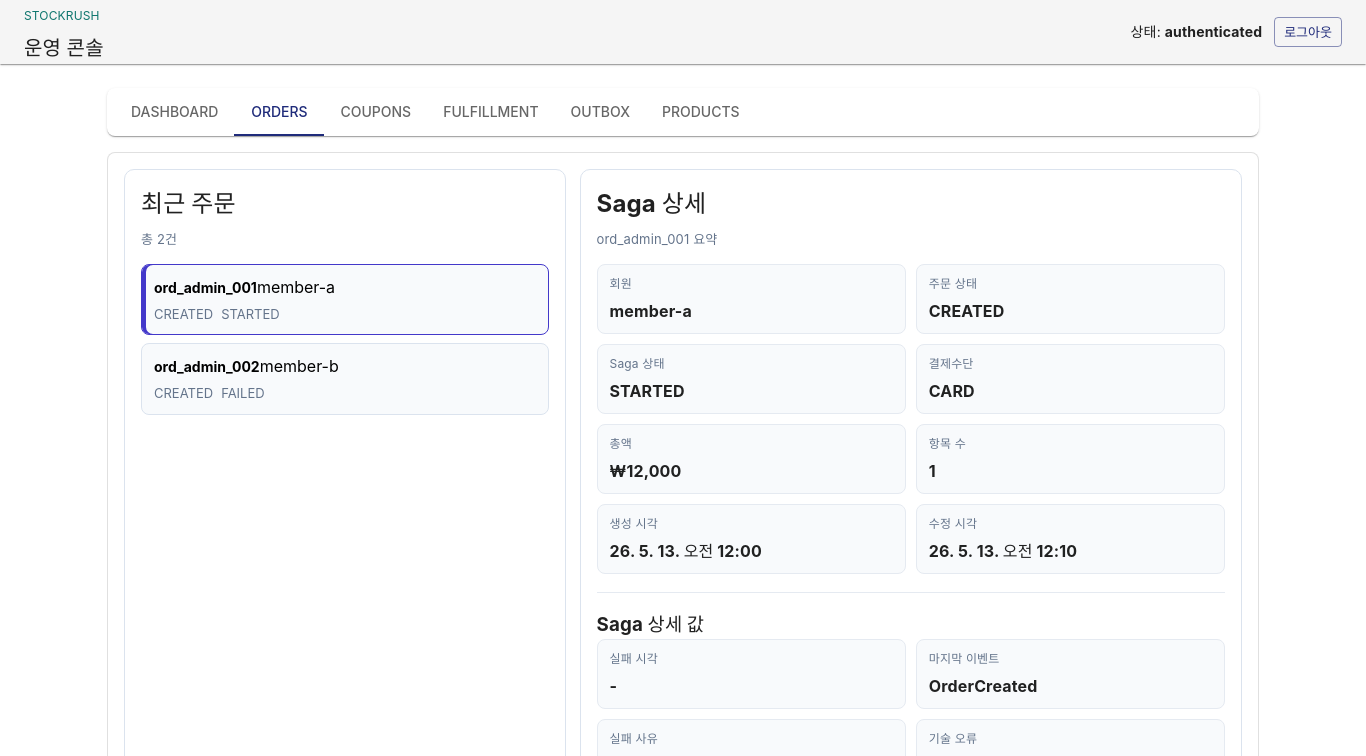
Test case: admin app operations › shows saga detail error and removes previous saga content after failed fetch
Expected: the text "ord_admin_001" is shown, [154, 278, 257, 296]
Expected: the text "OrderCreated" is shown, [929, 676, 1038, 696]
Click the text "ord_admin_002" at (207, 366), box [154, 358, 260, 375]
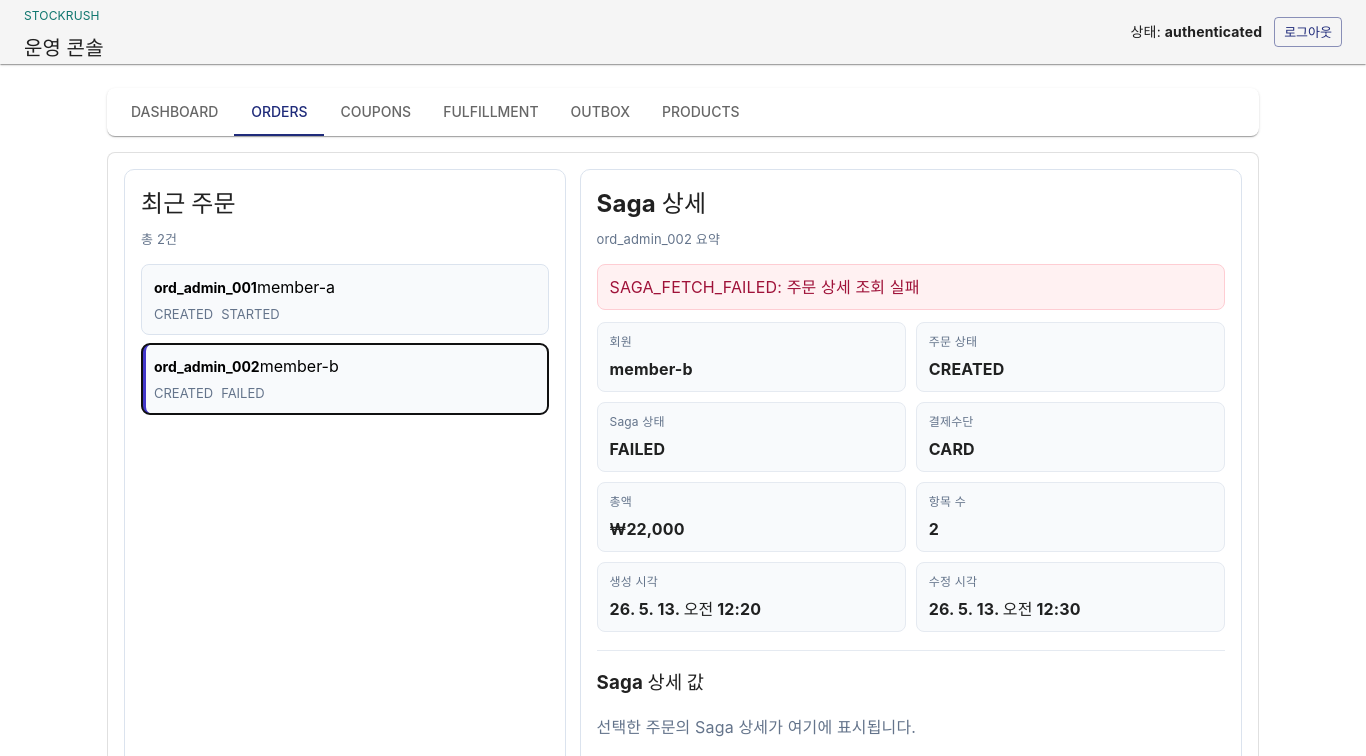
Expected: the message reads "SAGA_FETCH_FAILED: 주문 상세 조회 실패", [610, 276, 920, 296]
Expected: the text "OrderCreated" is gone
